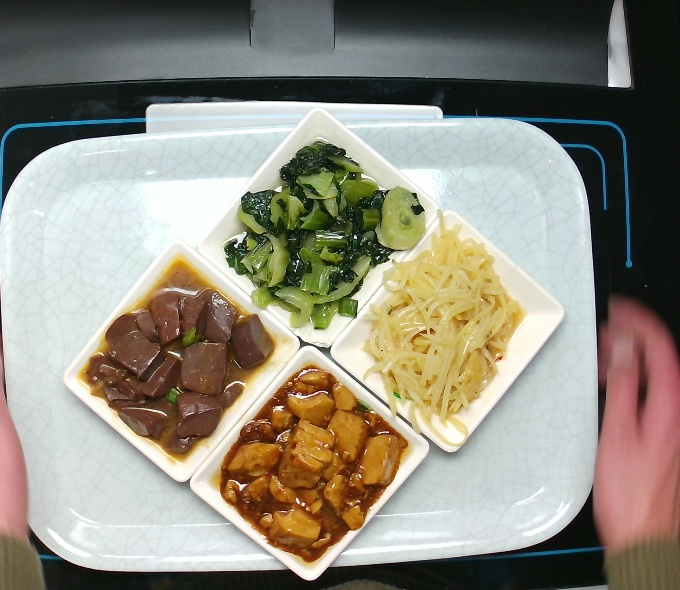wcq-MaPoDouFu: (219, 375, 406, 563)
wcq-NiuXue: (85, 276, 272, 464)
wcq-TuDouSi: (360, 224, 531, 436)
wcq-YouDongCai: (217, 131, 419, 329)
